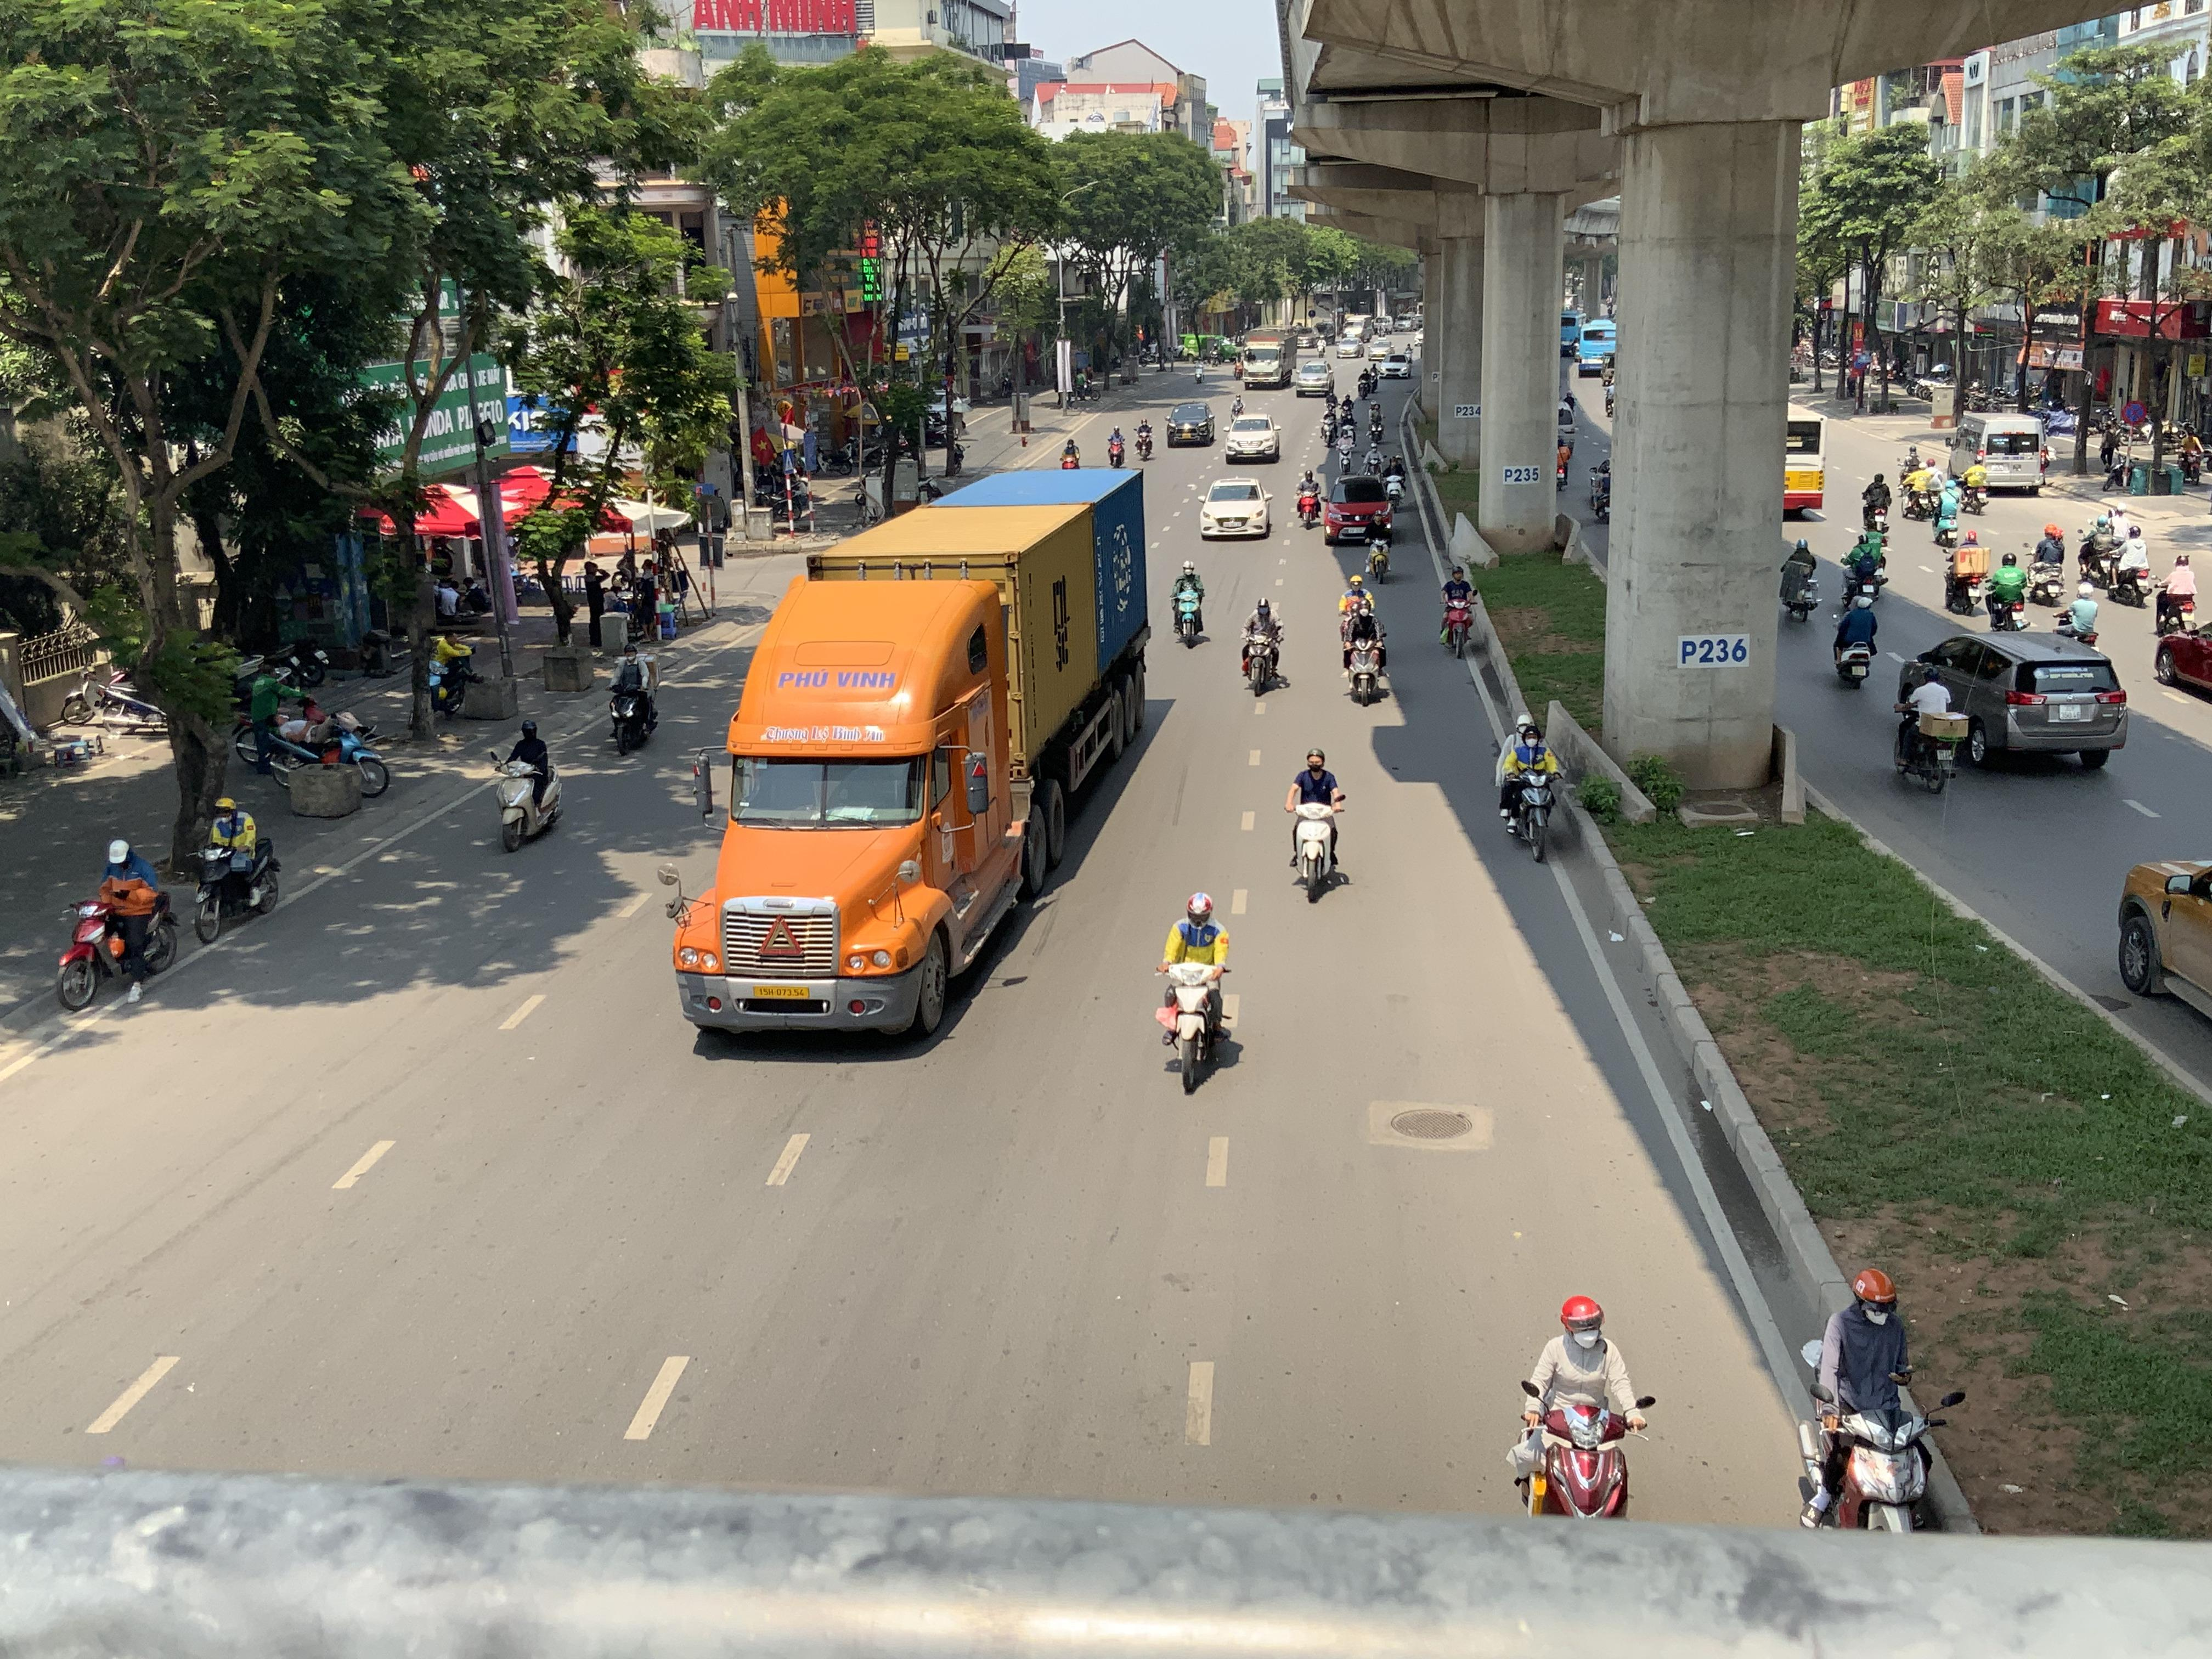BSD: (752, 986, 810, 999)
BSV: (2059, 704, 2081, 720)
bus: (1949, 411, 2047, 493)
car: (1904, 629, 2130, 772), (1320, 474, 1395, 545), (1198, 476, 1273, 538), (1226, 413, 1280, 464), (1165, 397, 1216, 446), (1292, 357, 1334, 396)
motorbike: (1794, 1267, 1963, 1530), (1510, 1295, 1653, 1514), (56, 838, 178, 1009), (1157, 890, 1240, 1096), (190, 795, 282, 943), (266, 709, 390, 803), (235, 662, 333, 765), (1287, 748, 1348, 903), (1498, 716, 1562, 863), (495, 716, 563, 852), (1893, 660, 1961, 795), (1339, 587, 1392, 706), (608, 641, 658, 755), (1238, 594, 1287, 697), (1831, 587, 1879, 688), (427, 631, 475, 714), (2153, 552, 2200, 638), (1839, 523, 1888, 605), (1439, 559, 1479, 659), (1982, 549, 2029, 633), (1778, 535, 1822, 622), (1942, 530, 1986, 615), (2107, 525, 2153, 606), (2076, 505, 2121, 587), (2024, 523, 2067, 606), (1169, 559, 1207, 648), (2054, 575, 2101, 645), (1897, 453, 1933, 521), (1930, 474, 1961, 551), (1858, 469, 1893, 535), (1362, 509, 1393, 582), (1958, 455, 1989, 512), (1294, 469, 1322, 528), (1383, 455, 1409, 511), (1366, 397, 1386, 441), (1134, 418, 1155, 460), (1320, 406, 1341, 446), (1108, 425, 1125, 469), (1336, 430, 1352, 474), (1362, 441, 1381, 476), (1059, 439, 1080, 469), (1341, 411, 1359, 446), (1230, 394, 1247, 418)
truck: (643, 465, 1169, 1053)
